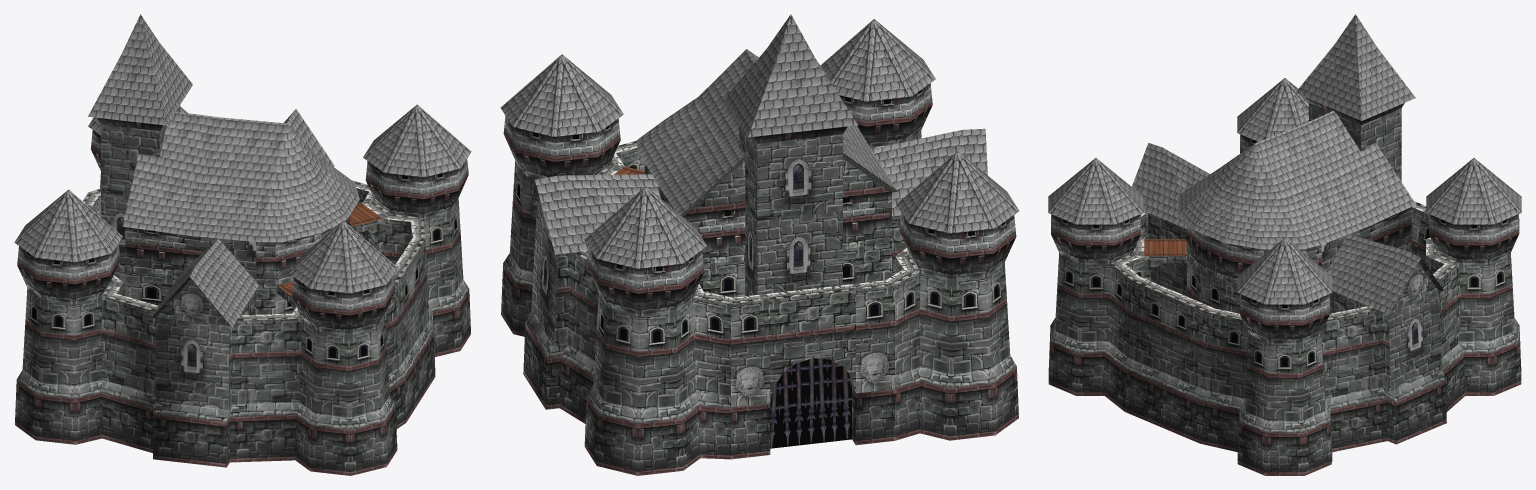
File: h_castle.FBX
3 renders of one model, left to right at view 1: azimuth 30°, elevation 25°; view 2: azimuth 150°, elevation 25°; view 3: azimuth 270°, elevation 25°, orthographic. The views are drawn at different scales.
Visible parts, largest first — view 1: h_castle; view 2: h_castle; view 3: h_castle.
Boxes of the visible parts, x1,y1,x2,y2 form: h_castle: (14, 14, 471, 475); h_castle: (500, 14, 1019, 475); h_castle: (1048, 14, 1521, 475).
Bounding box in the file's own units: 401 × 310 × 401.
